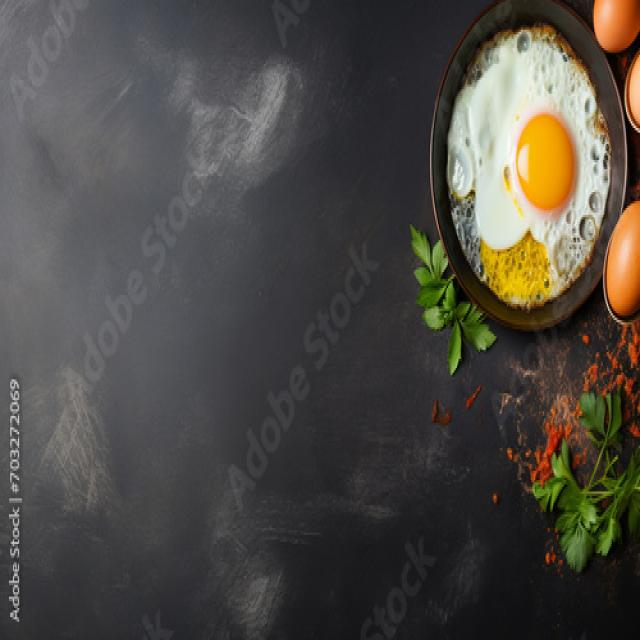Egg: (446, 27, 610, 307)
